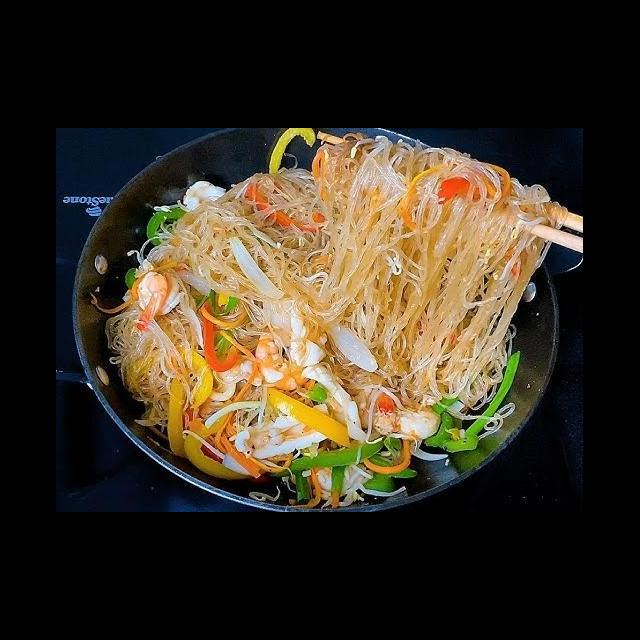banh hu tieu: (312, 131, 570, 416), (143, 161, 344, 309), (106, 304, 208, 433)
hu tieu: (93, 145, 583, 512)
muc: (230, 400, 340, 462), (302, 359, 364, 435)
tom: (252, 319, 330, 393), (128, 268, 170, 332)
